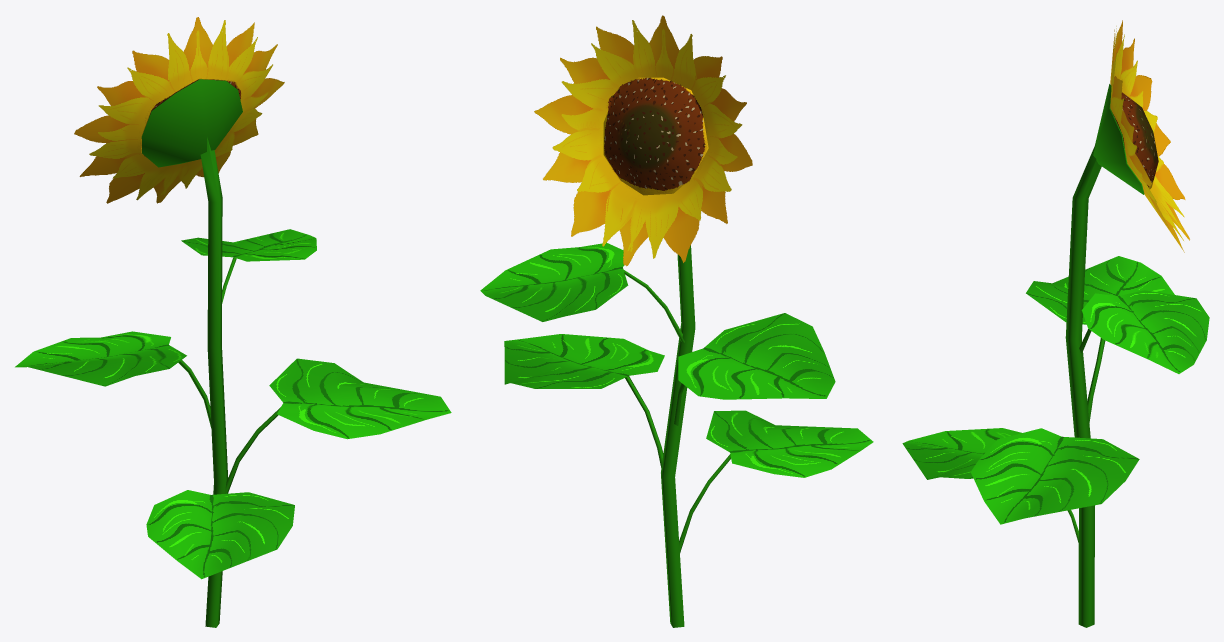
File: Sunflower Stage 3.fbx
The picture shows the model from 3 angles, left to right: view 1: azimuth 30°, elevation 25°; view 2: azimuth 150°, elevation 25°; view 3: azimuth 270°, elevation 25°; orthographic projection. The views are drawn at different scales.
Parts seen in each view (by area): view 1: Sunflower_Stage_3; view 2: Sunflower_Stage_3; view 3: Sunflower_Stage_3.
Boxes of the visible parts, x1,y1,x2,y2 form: Sunflower_Stage_3: (15, 17, 451, 627); Sunflower_Stage_3: (480, 15, 873, 627); Sunflower_Stage_3: (902, 20, 1209, 627).
Size of the model in its own units: 0.9811 by 1.52 by 0.7101.
Materials: 3 (2 with a texture image).
